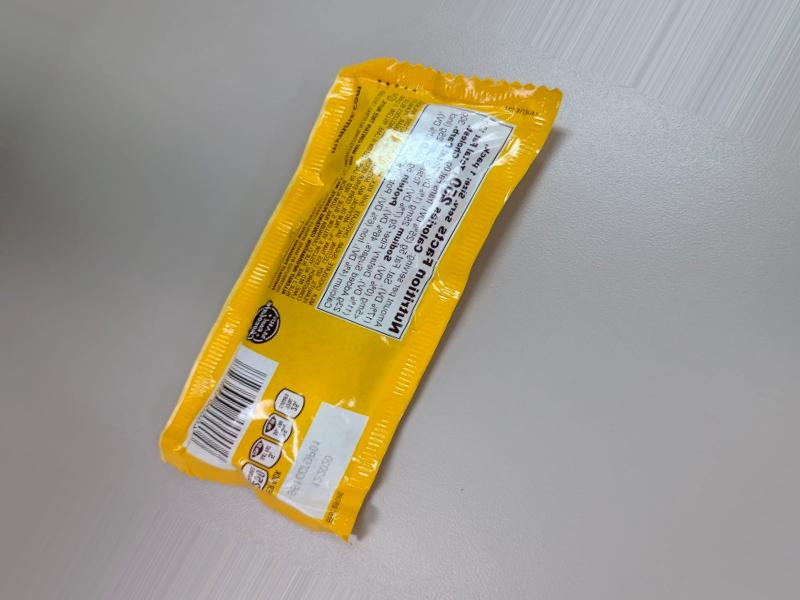m&m: (101, 133, 571, 589)
